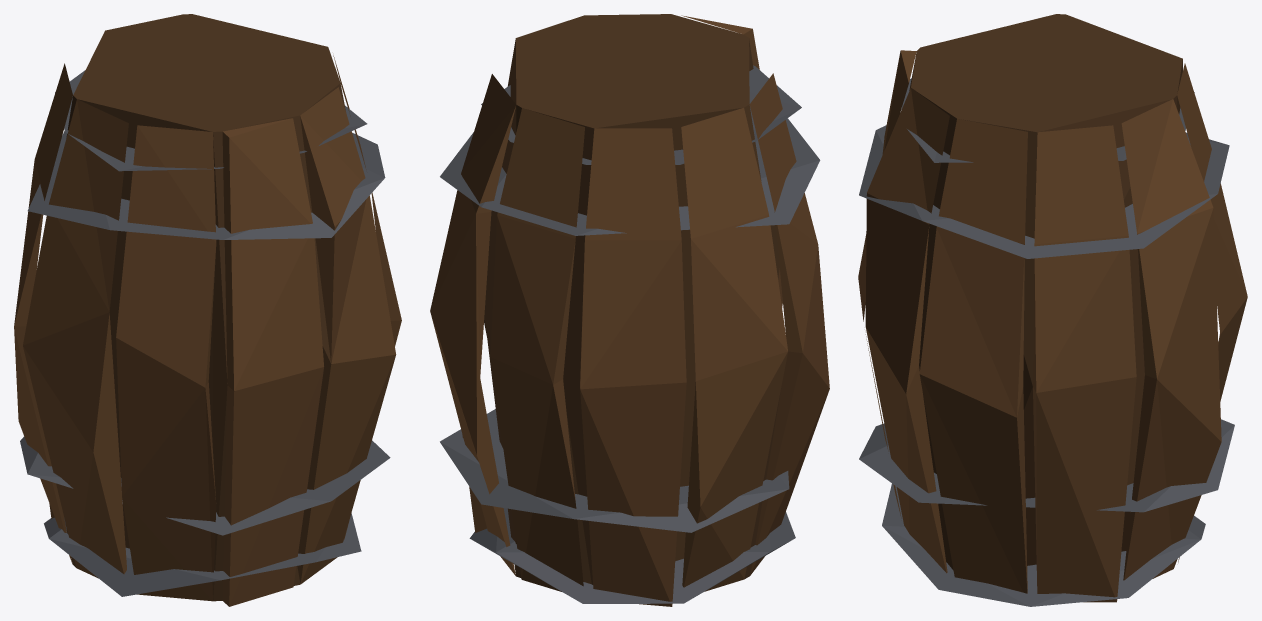
File: Barrel.glb
3 renders of one model, left to right at view 1: azimuth 30°, elevation 25°; view 2: azimuth 150°, elevation 25°; view 3: azimuth 270°, elevation 25°, orthographic.
Parts seen in each view (by area): view 1: Barrel; view 2: Barrel; view 3: Barrel.
Boxes of the visible parts, box(x1,y1,x2,y2) form: Barrel: box(14, 14, 401, 606); Barrel: box(430, 14, 829, 606); Barrel: box(858, 14, 1247, 606).
Size of the model in its own units: 0.1582 by 0.2032 by 0.1526.
